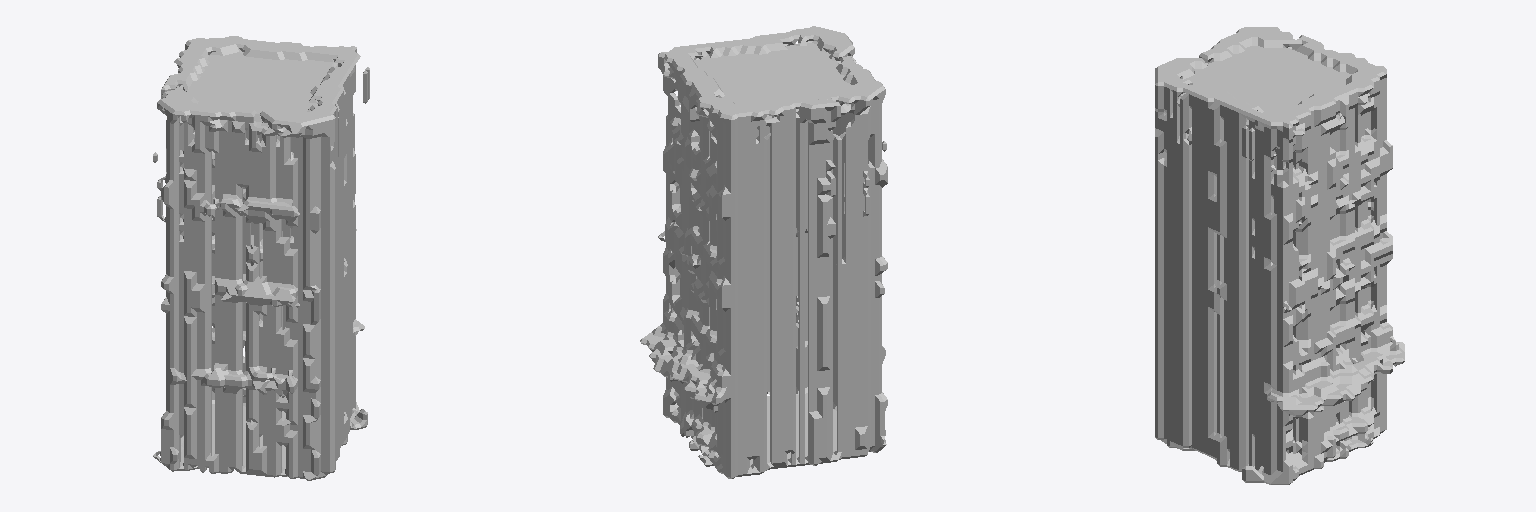
Rendered from gen1_colored.obj.
3 renders of one model, left to right at view 1: azimuth 30°, elevation 25°; view 2: azimuth 150°, elevation 25°; view 3: azimuth 270°, elevation 25°, orthographic.
Visible parts, largest first — view 1: gen1.obj; view 2: gen1.obj; view 3: gen1.obj.
Boxes of the visible parts, <box> form: gen1.obj: <box>153,36,369,480</box>; gen1.obj: <box>640,26,887,478</box>; gen1.obj: <box>1155,27,1404,484</box>.
Bounding box in the file's own units: 41 × 64 × 40.